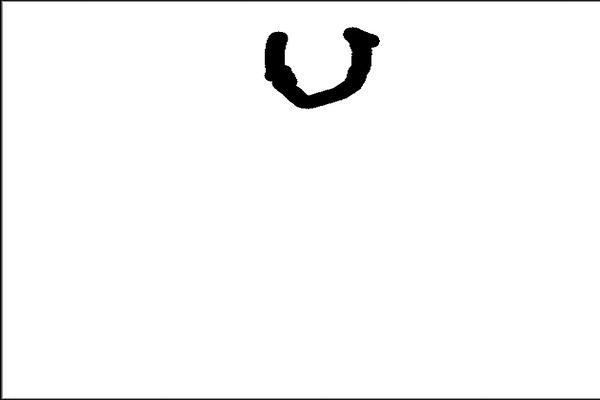U: (255, 9, 388, 115)
